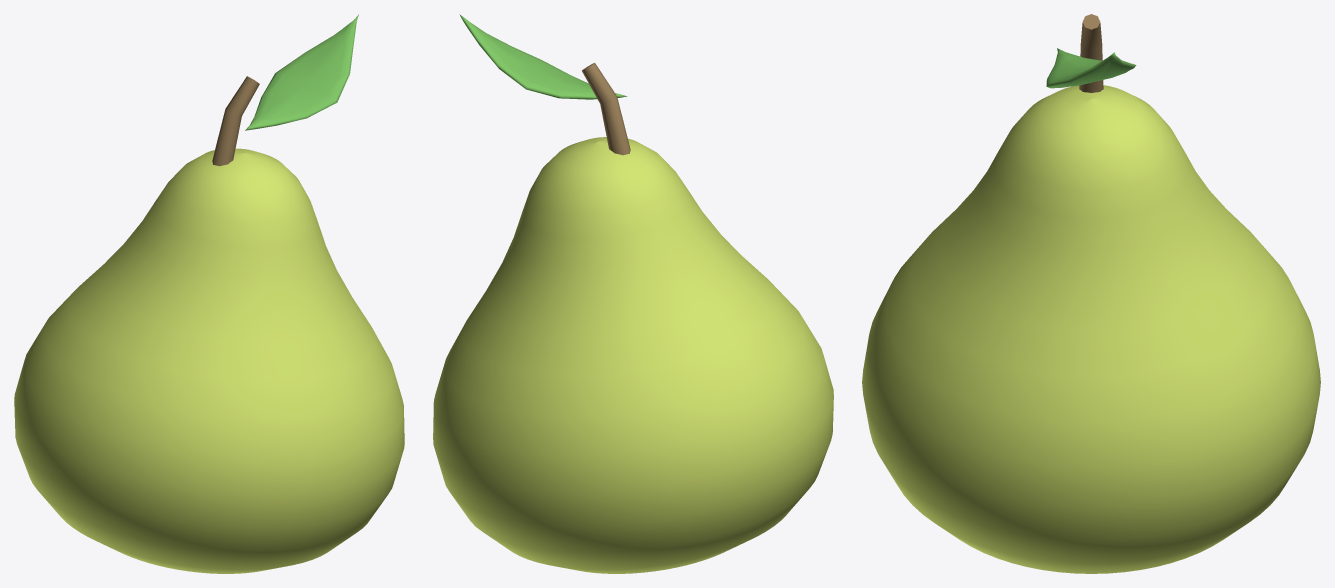
The model's file is pear.glb.
3 views of the same model, side by side, from view 1: azimuth 30°, elevation 25°; view 2: azimuth 150°, elevation 25°; view 3: azimuth 270°, elevation 25° (orthographic). The views are drawn at different scales.
Parts seen in each view (by area): view 1: pear; view 2: pear; view 3: pear.
Part boxes in pixels (x1,y1,x2,y2): pear: [14, 14, 404, 573]; pear: [433, 14, 833, 573]; pear: [862, 14, 1320, 573].
Size of the model in its own units: 0.5116 by 0.7055 by 0.5167.
